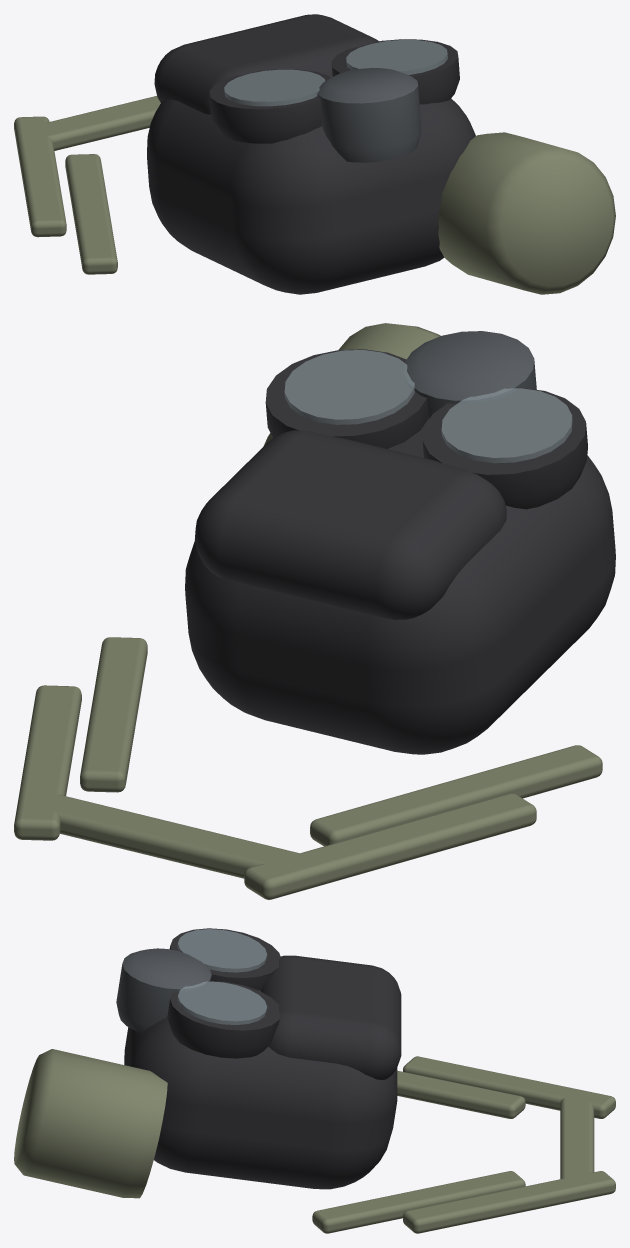
3 renders of one model, top to bottom at view 1: azimuth 30°, elevation 25°; view 2: azimuth 150°, elevation 25°; view 3: azimuth 270°, elevation 25°, orthographic. The views are drawn at different scales.
Parts seen in each view (by area): view 1: gas-mask; view 2: gas-mask; view 3: gas-mask.
Part boxes in pixels (<box>): gas-mask: <box>14,14,615,294</box>; gas-mask: <box>14,323,615,899</box>; gas-mask: <box>14,928,615,1233</box>.
Bounding box in the file's own units: 0.3495 × 0.1972 × 0.5329.
